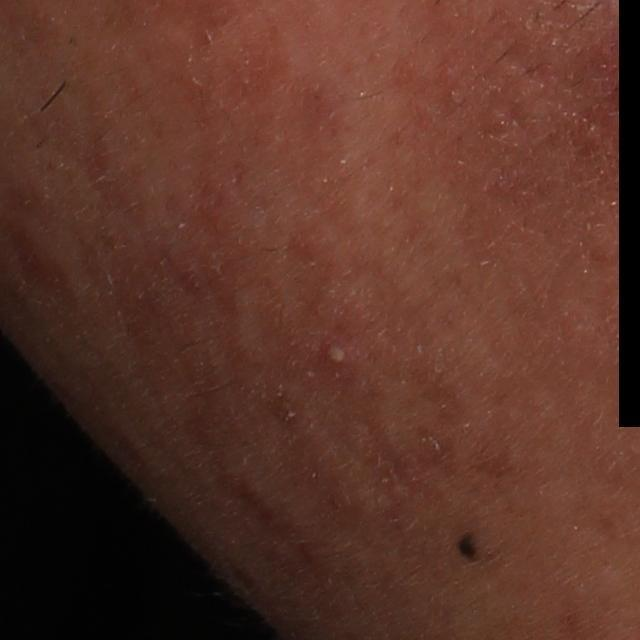nevus: (453, 530, 480, 560)
pustule: (319, 334, 356, 374)
